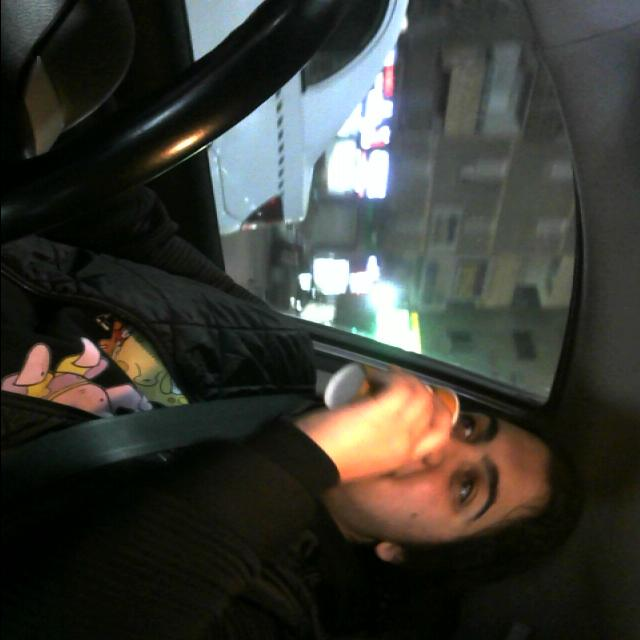drinking: (262, 349, 404, 442)
